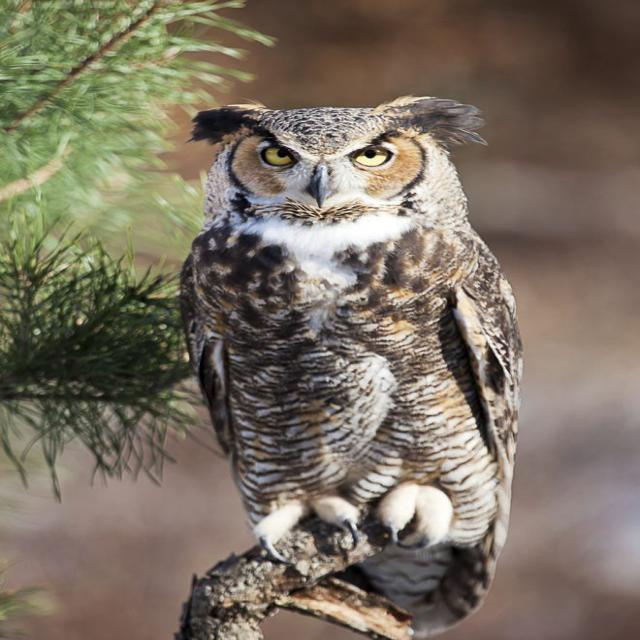Owl: (175, 92, 534, 633)
